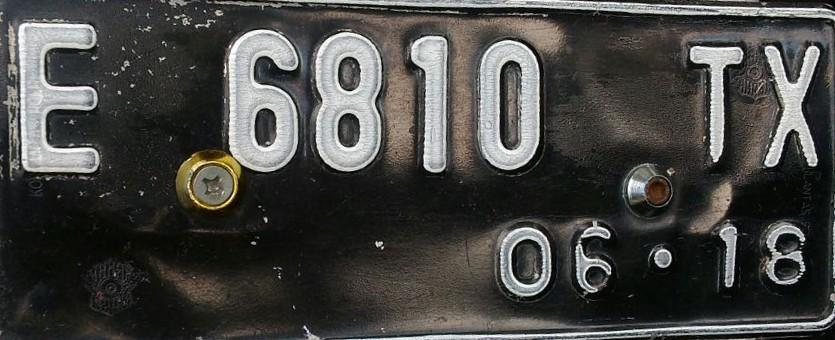clone-license-plate: (2, 0, 832, 335)
